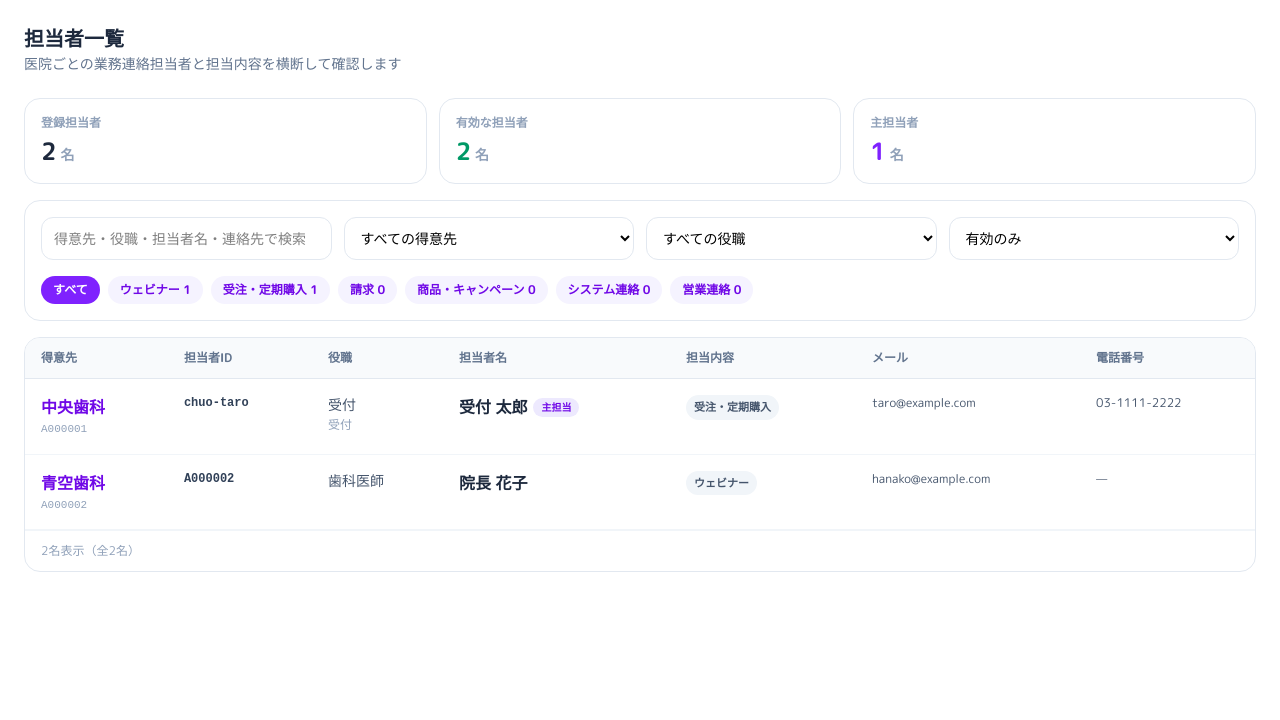
BGJ担当者一覧 › 担当者名で検索できる
The image size is (1280, 720).
expect the text "受付 太郎" is shown: met, box [459,395,527,419]
Type "花子" into the field named "担当者を検索".
click(186, 238); type("花子")  # box [41,217,332,260]
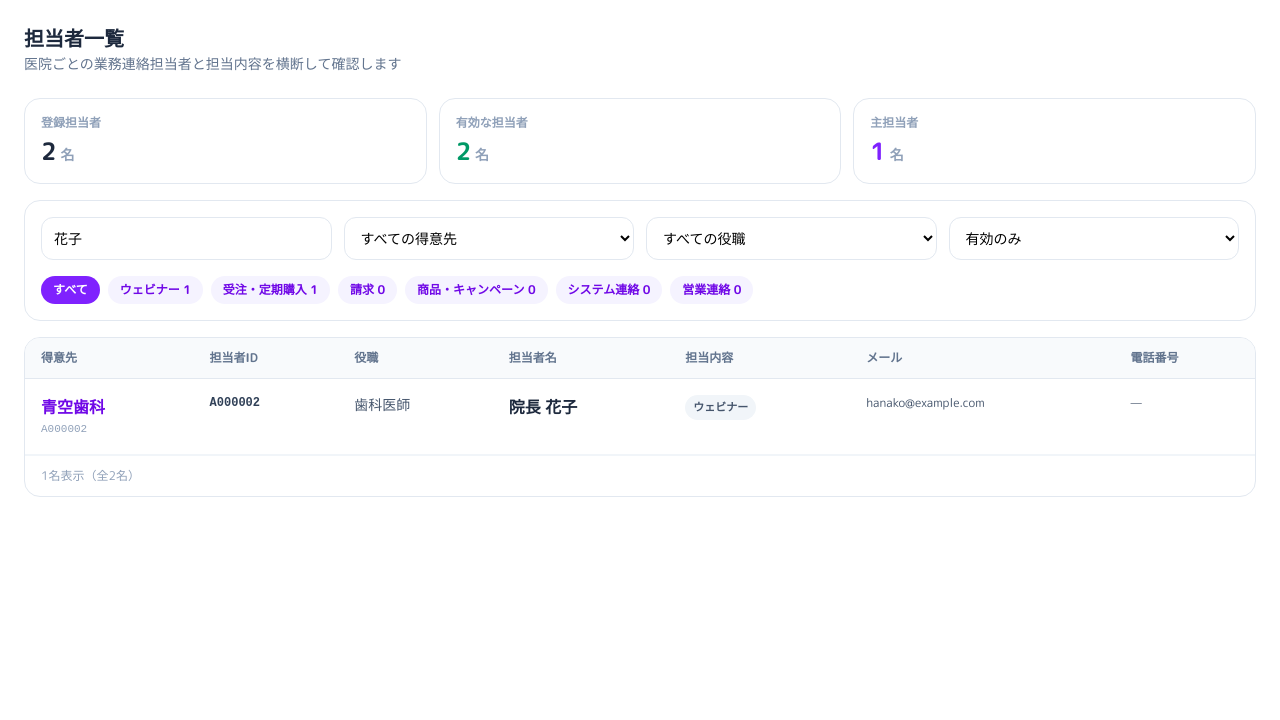
expect the text "院長 花子" is shown: met, box [509,395,577,419]
expect the text "受付 太郎" is gone: met
